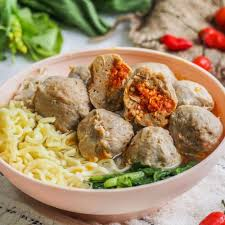bakso: (15, 32, 225, 208)
